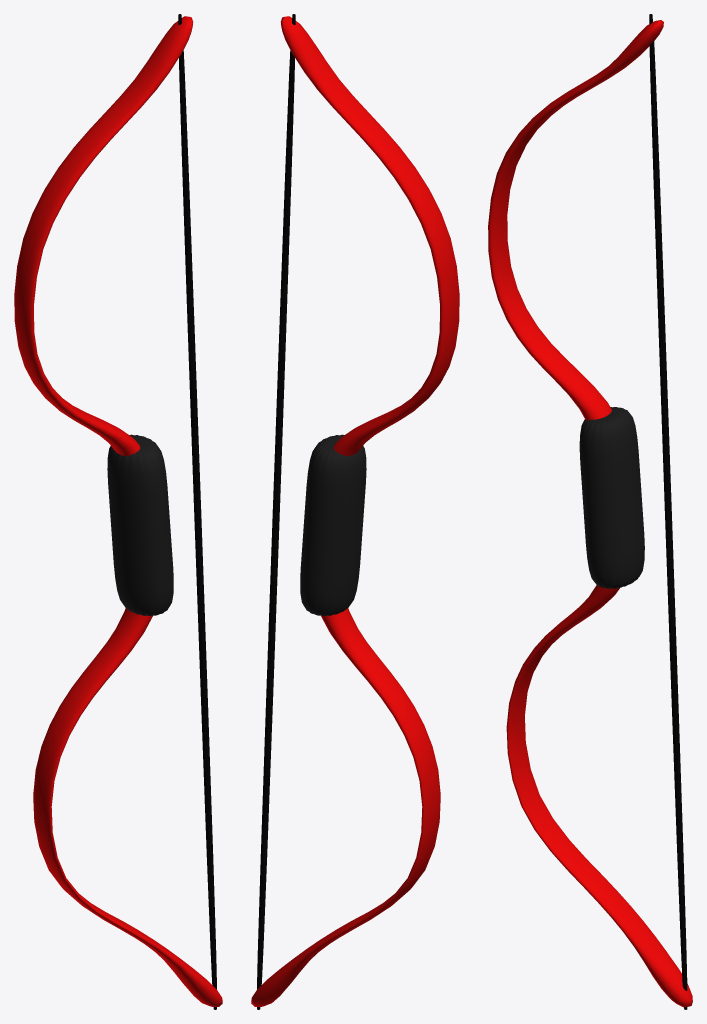
File: BowTri.fbx
3 views of the same model, side by side, from view 1: azimuth 30°, elevation 25°; view 2: azimuth 150°, elevation 25°; view 3: azimuth 330°, elevation 25° (orthographic).
Visible parts, largest first — view 1: BowBody1; view 2: BowBody1; view 3: BowBody1.
Boxes of the visible parts, box(x1,y1,x2,y2) form: BowBody1: box(14, 14, 222, 1009); BowBody1: box(251, 14, 459, 1009); BowBody1: box(488, 14, 692, 1009).
Bounding box in the file's own units: 6.31 × 29.98 × 1.97.
